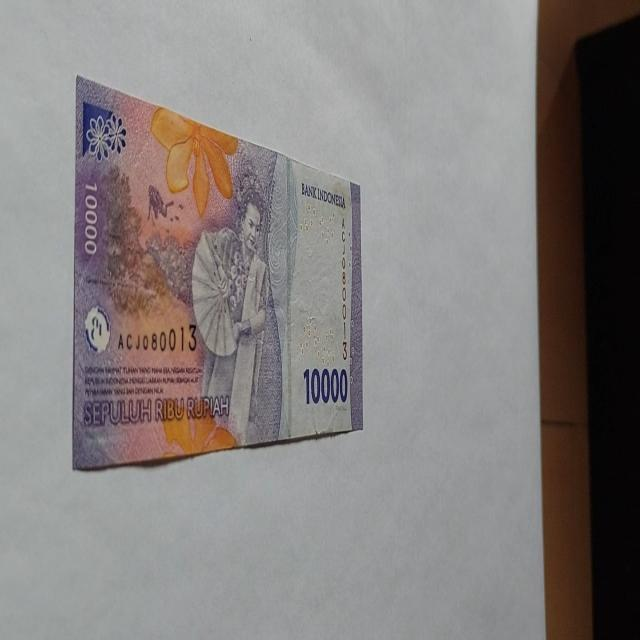sepuluh ribu rupiah: (72, 74, 364, 472)
